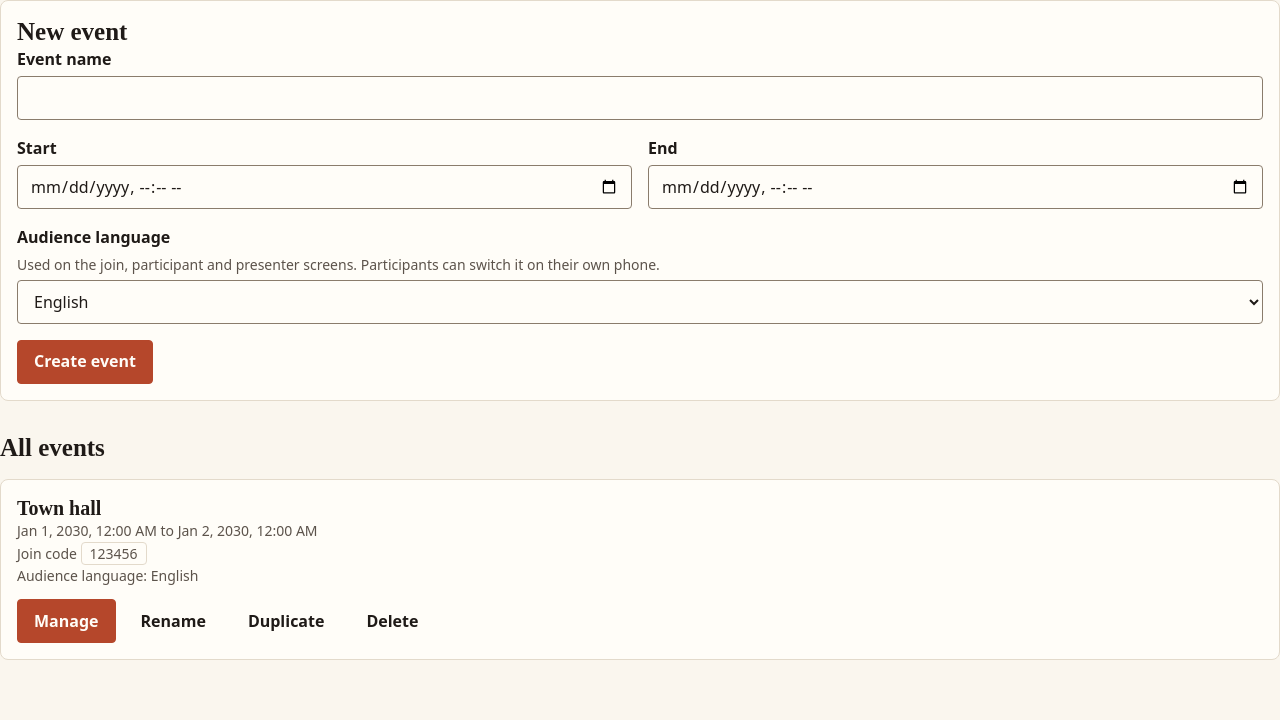
Test case: EventManager › duplicates an event and lists the copy
The image size is (1280, 720).
What coordinates should you click on to do the following:
click the button "Duplicate"
I would click on:
 (286, 621)
Its box is [231,599,341,643].
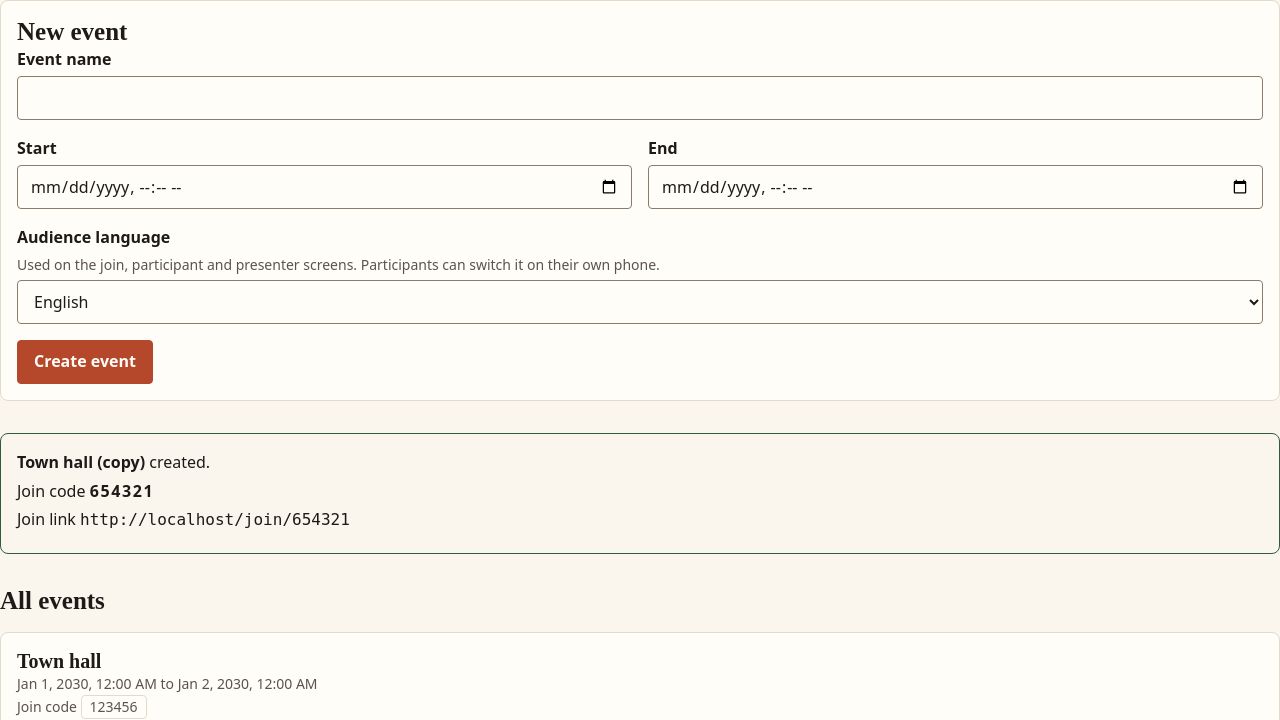
Expected: the text "Town hall (copy)" is shown, [17,451,145,473]
